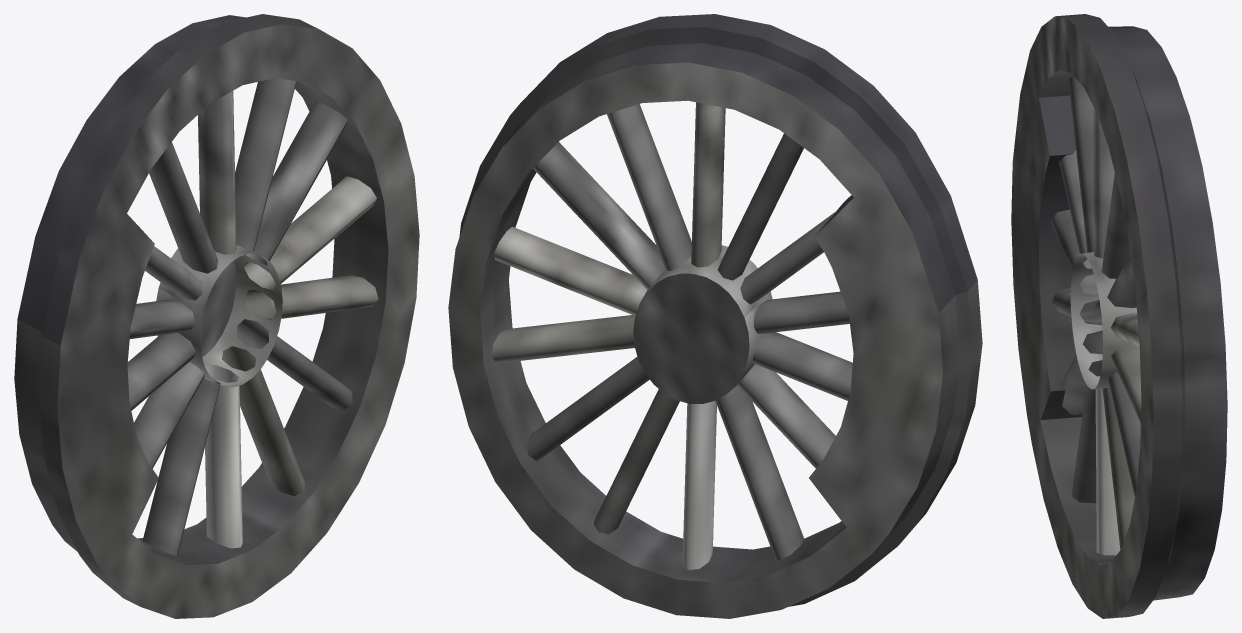
The model's file is LlantaIzq5.obj.
3 renders of one model, left to right at view 1: azimuth 30°, elevation 25°; view 2: azimuth 150°, elevation 25°; view 3: azimuth 270°, elevation 25°, orthographic. The views are drawn at different scales.
Visible parts, largest first — view 1: LlantaIzq4; view 2: LlantaIzq4; view 3: LlantaIzq4.
Boxes of the visible parts, x1,y1,x2,y2 form: LlantaIzq4: (14,14,419,618); LlantaIzq4: (448,14,982,618); LlantaIzq4: (1011,14,1227,618).
Bounding box in the file's own units: 0.3156 × 0.3937 × 0.1364.
Materials: 1 (1 with a texture image).
